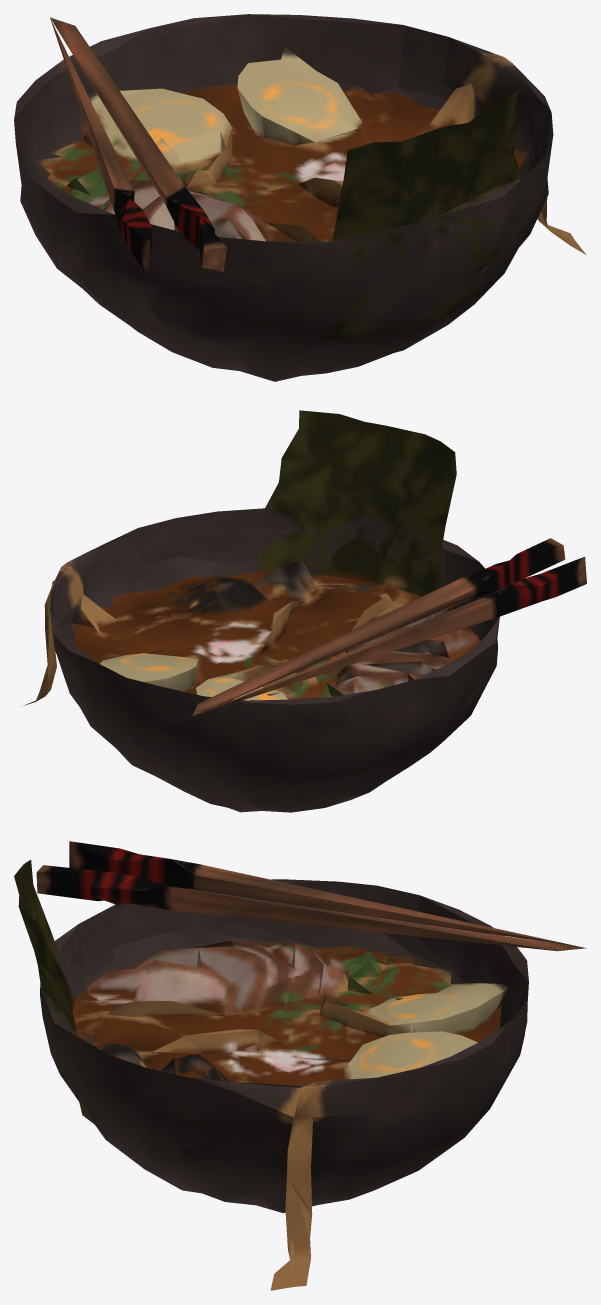
The model's file is food_ramen.glb.
3 views of the same model, one above another, from view 1: azimuth 30°, elevation 25°; view 2: azimuth 150°, elevation 25°; view 3: azimuth 270°, elevation 25° (orthographic). The views are drawn at different scales.
Visible parts, largest first — view 1: mesh; view 2: mesh; view 3: mesh.
Boxes of the visible parts, left/top/right/bottom form: mesh: left=14, top=14, right=586, bottom=381; mesh: left=23, top=410, right=586, bottom=812; mesh: left=14, top=841, right=586, bottom=1290.
Bounding box in the file's own units: 0.2261 × 0.12 × 0.223.
Materials: 1 (1 with a texture image).
